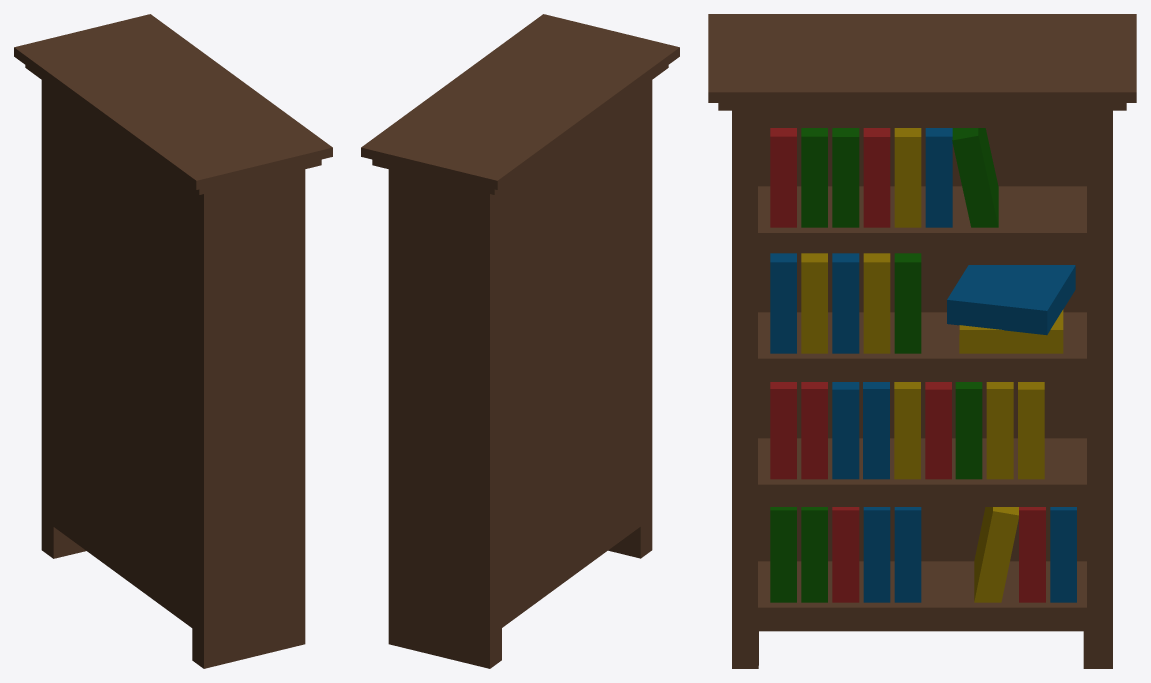
Rendered from Bookcase1.fbx.
3 views of the same model, side by side, from view 1: azimuth 30°, elevation 25°; view 2: azimuth 150°, elevation 25°; view 3: azimuth 270°, elevation 25° (orthographic). The views are drawn at different scales.
Parts seen in each view (by area): view 1: Bookcase1; view 2: Bookcase1; view 3: Bookcase1.
Part boxes in pixels (box(x1,y1,x2,y2)): Bookcase1: box(14, 14, 332, 668); Bookcase1: box(361, 14, 679, 668); Bookcase1: box(708, 14, 1136, 668).
Size of the model in its own units: 1.78 by 6.24 by 4.13.
